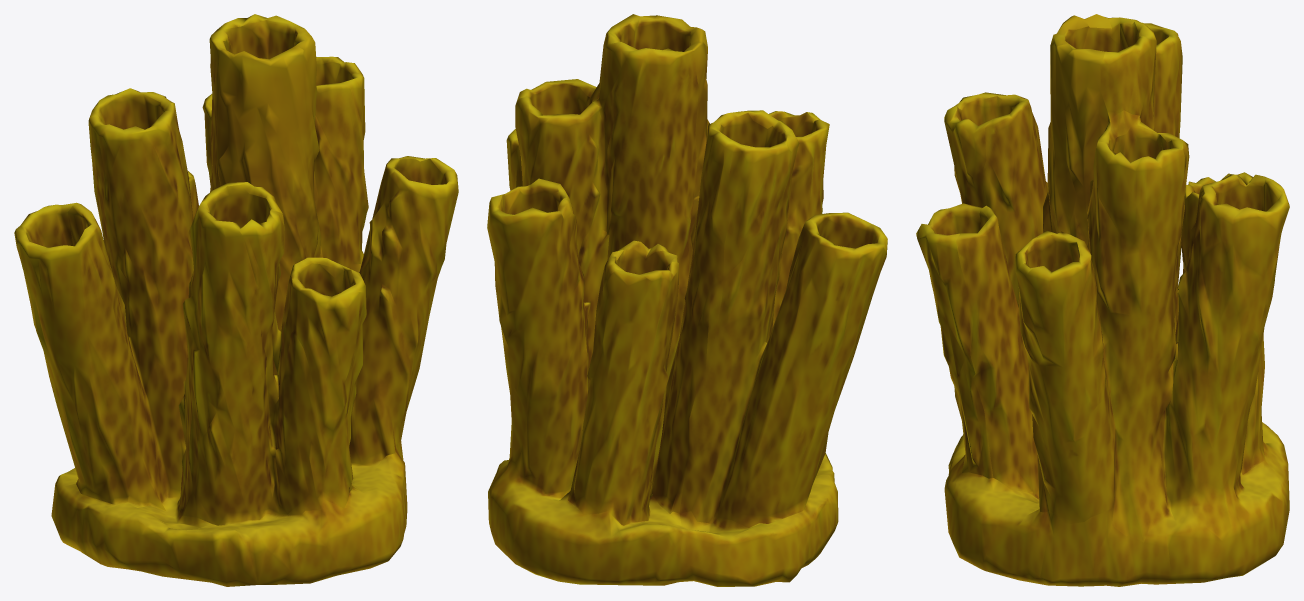
The model's file is SM_Coral_Tube.fbx.
3 views of the same model, side by side, from view 1: azimuth 30°, elevation 25°; view 2: azimuth 150°, elevation 25°; view 3: azimuth 270°, elevation 25° (orthographic). The views are drawn at different scales.
Parts seen in each view (by area): view 1: SM_Coral_Tube_LOD0; view 2: SM_Coral_Tube_LOD0; view 3: SM_Coral_Tube_LOD0.
Boxes of the visible parts, x1,y1,x2,y2 form: SM_Coral_Tube_LOD0: (14,14,458,586); SM_Coral_Tube_LOD0: (487,14,887,586); SM_Coral_Tube_LOD0: (916,14,1289,586).
Size of the model in its own units: 104 by 81.48 by 122.
